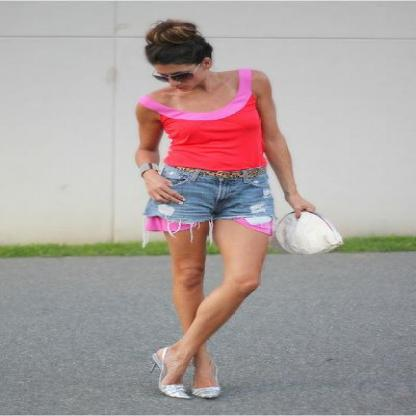bag: (288, 212, 342, 253)
shirt: (137, 75, 265, 173)
shoe: (159, 380, 220, 397)
shorts: (144, 175, 276, 238)
sunglass: (168, 71, 192, 82)
